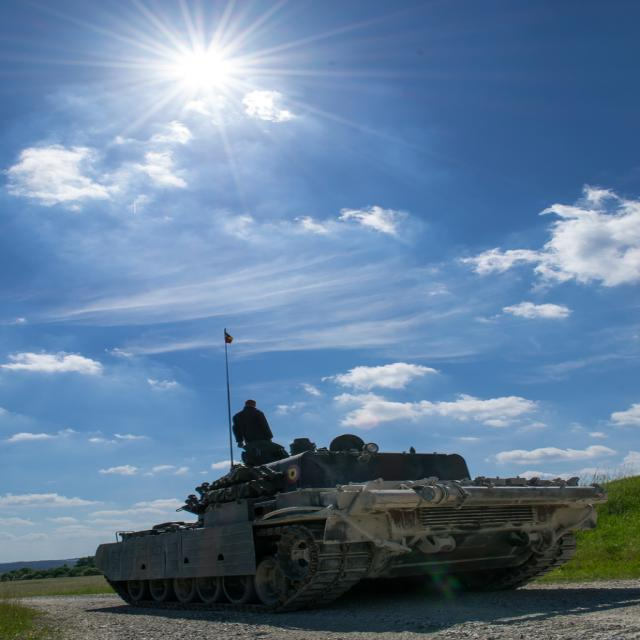tank: (95, 327, 607, 608)
